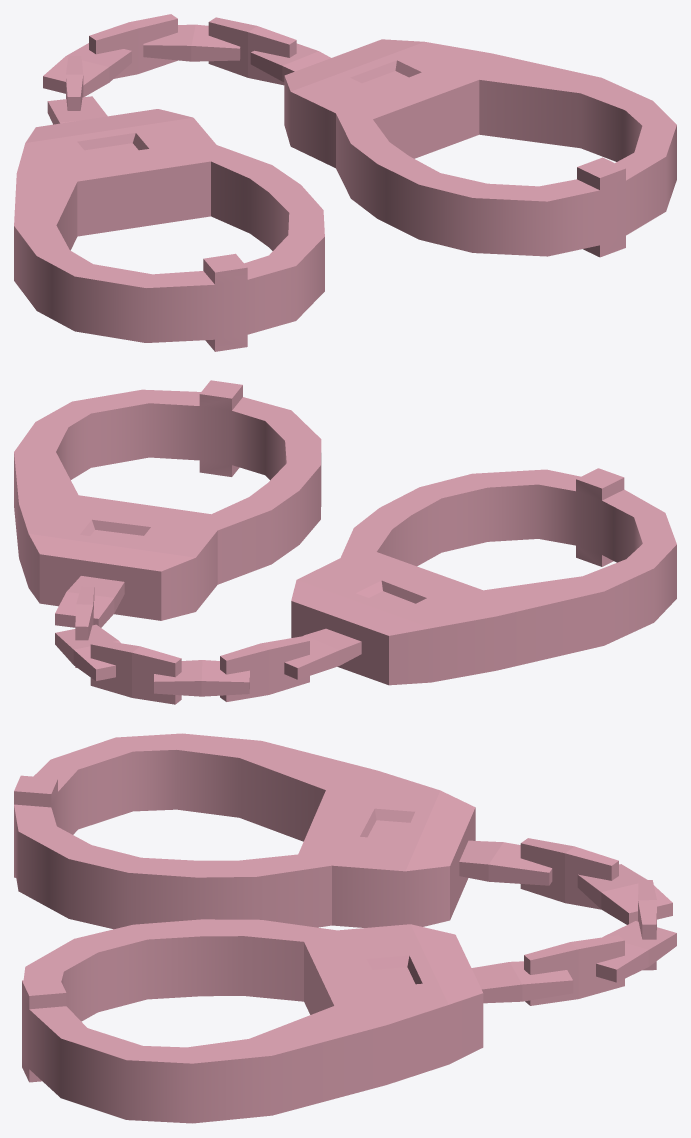
The model's file is Handcuffs.fbx.
3 renders of one model, top to bottom at view 1: azimuth 30°, elevation 25°; view 2: azimuth 150°, elevation 25°; view 3: azimuth 270°, elevation 25°, orthographic. The views are drawn at different scales.
Visible parts, largest first — view 1: Handcuffs; view 2: Handcuffs; view 3: Handcuffs.
Part boxes in pixels (left/top/right/bottom): Handcuffs: left=14, top=14, right=676, bottom=351; Handcuffs: left=14, top=380, right=676, bottom=704; Handcuffs: left=14, top=733, right=676, bottom=1123.
Size of the model in its own units: 25.35 by 3.1 by 21.52.
